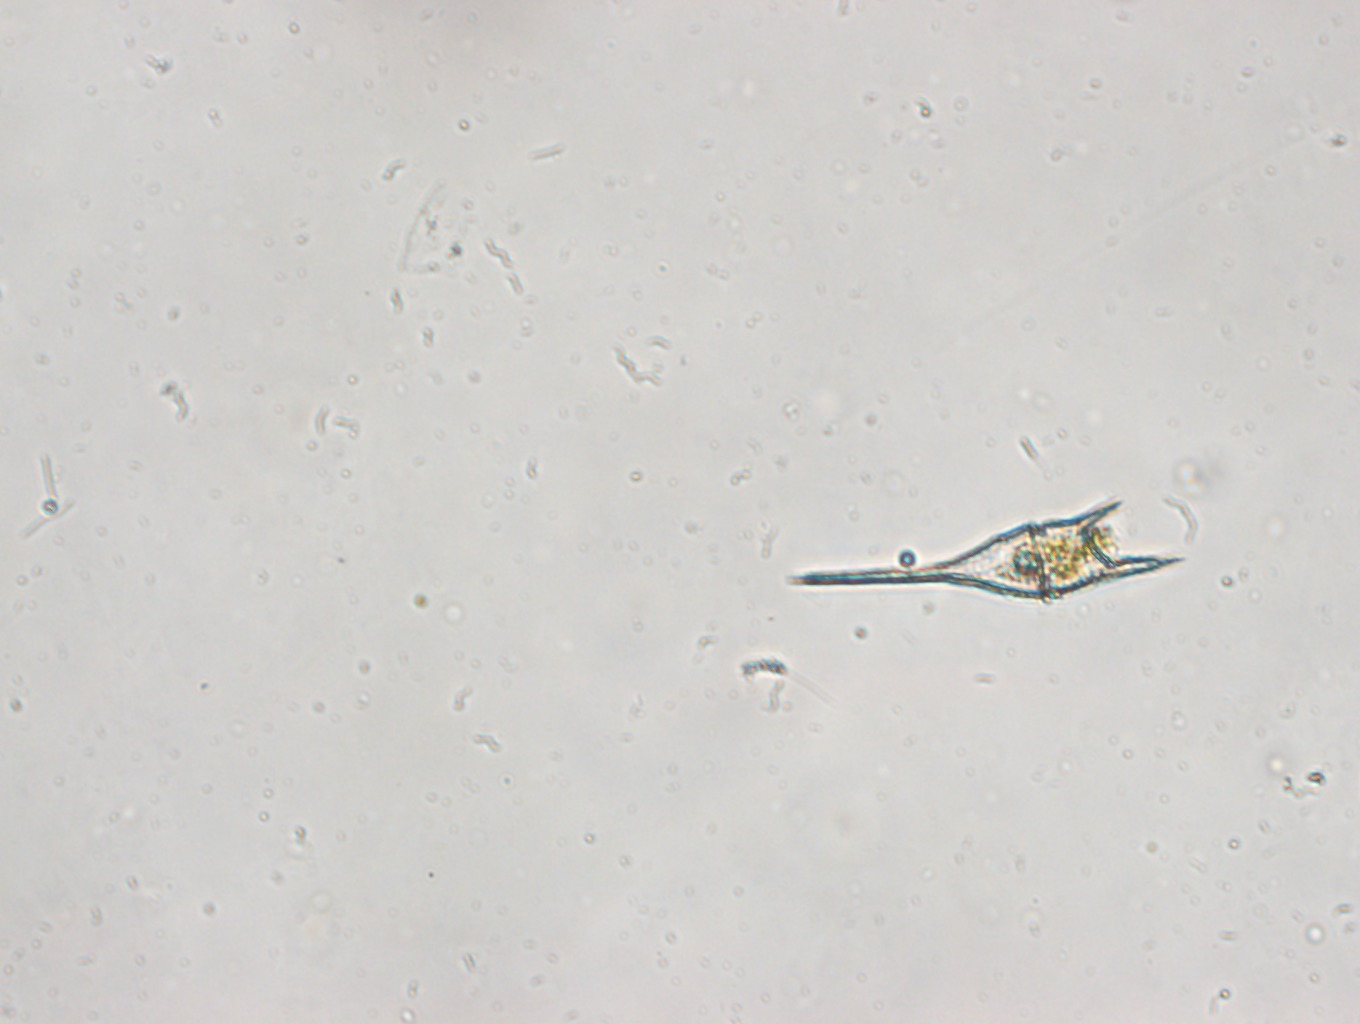ceratium furca: (781, 493, 1189, 608)
